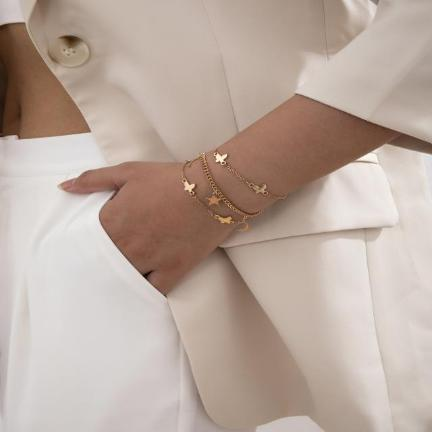Nail: (56, 179, 75, 190)
